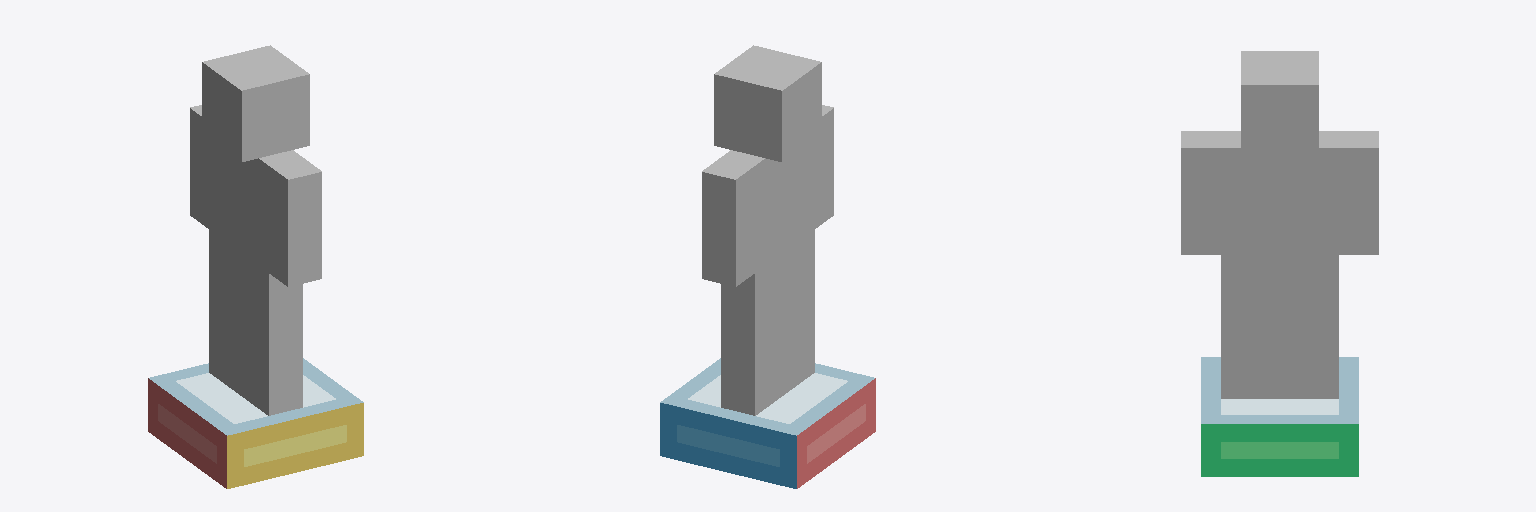
The picture shows the model from 3 angles: view 1: azimuth 30°, elevation 25°; view 2: azimuth 150°, elevation 25°; view 3: azimuth 270°, elevation 25°; orthographic projection.
Parts seen in each view (by area): view 1: cube; view 2: cube; view 3: cube.
Part boxes in pixels (x1,y1,x2,y2): cube: (148,45,363,488); cube: (660,45,875,488); cube: (1181,51,1378,476).
Bounding box in the file's own units: 0.5 × 1.31 × 0.625.
Materials: 2 (1 with a texture image).